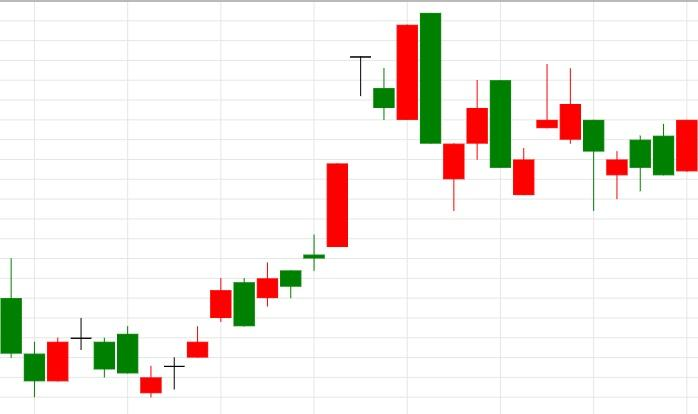bearish_engulfing_fall: (139, 278, 256, 398)
hammer_rise: (535, 63, 605, 211)
